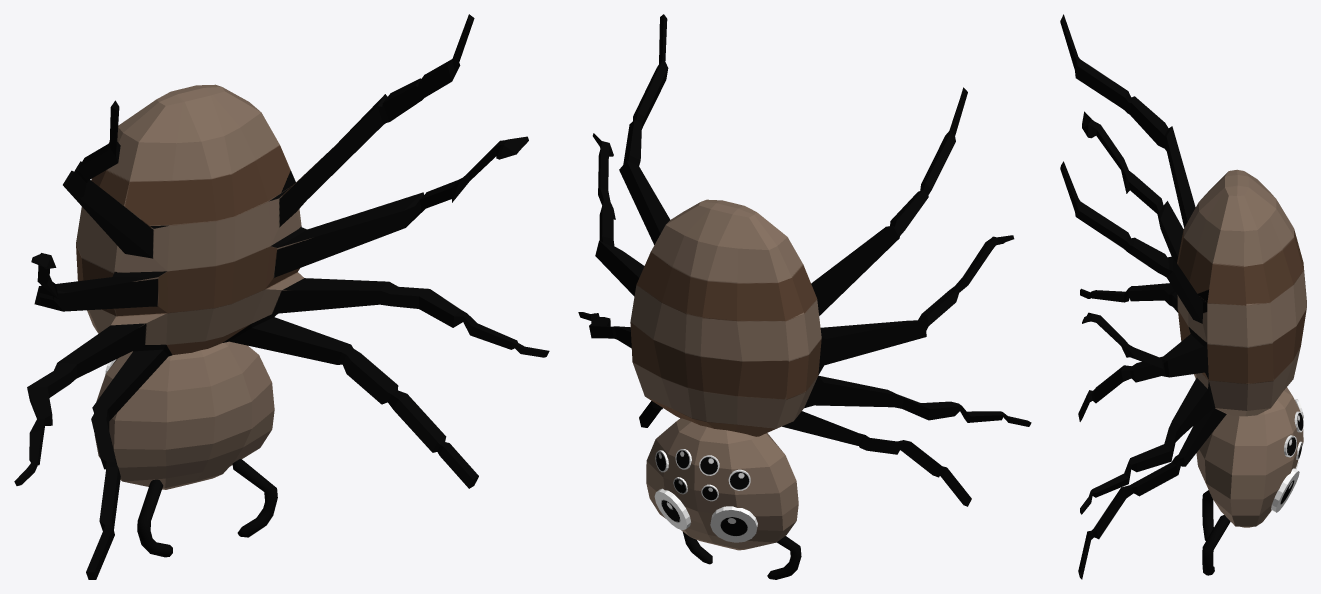
File: spider_ani01.fbx
3 renders of one model, left to right at view 1: azimuth 30°, elevation 25°; view 2: azimuth 150°, elevation 25°; view 3: azimuth 270°, elevation 25°, orthographic. The views are drawn at different scales.
Visible parts, largest first — view 1: Point.001; view 2: Point.001; view 3: Point.001.
Part boxes in pixels (left/top/right/bottom): Point.001: left=14, top=14, right=549, bottom=579; Point.001: left=578, top=14, right=1031, bottom=579; Point.001: left=1060, top=14, right=1306, bottom=579.
Size of the model in its own units: 132 by 61.98 by 130.
